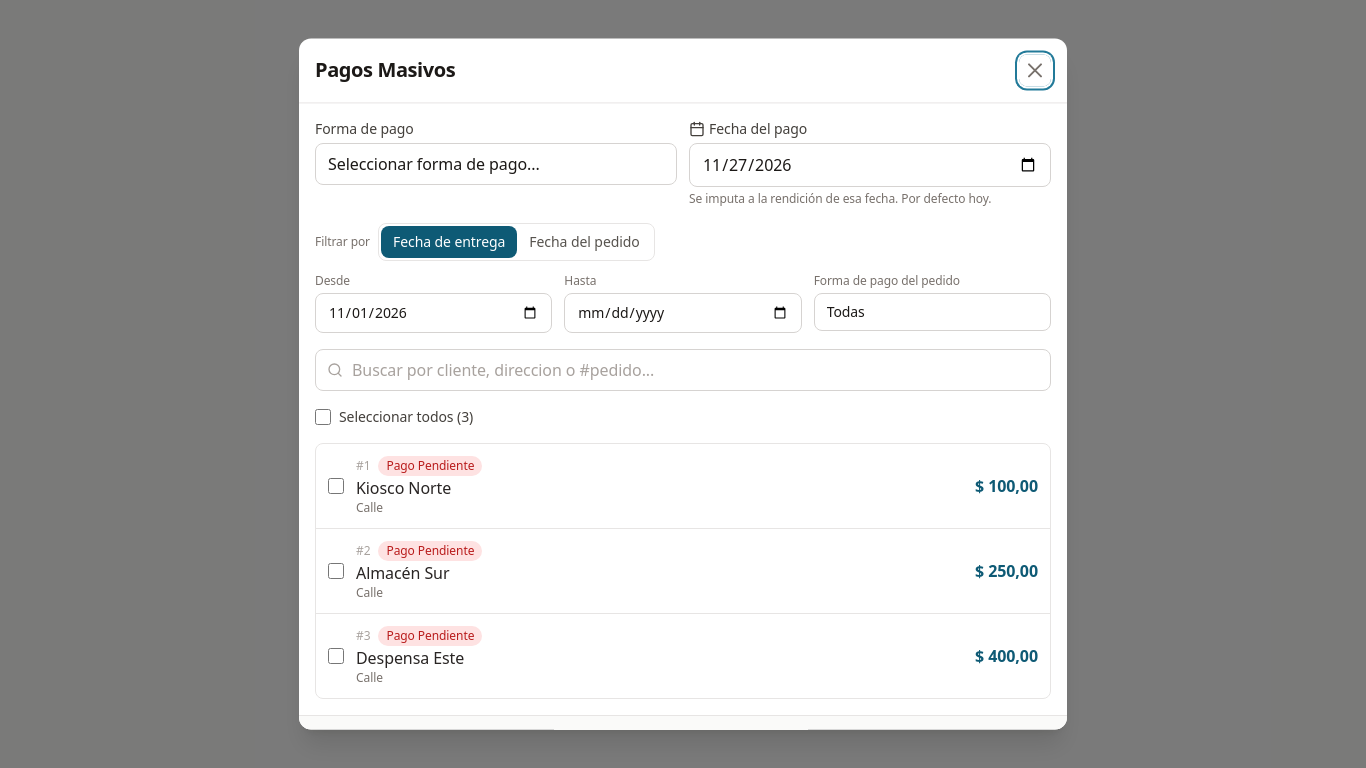
Scenario: ModalPagosMasivos · filtros de fecha y forma de pago (#1698) › filtra por fecha de entrega por defecto
Select "Efectivo" in the 1st dropdown at (496, 164), box [315,143,677,185]
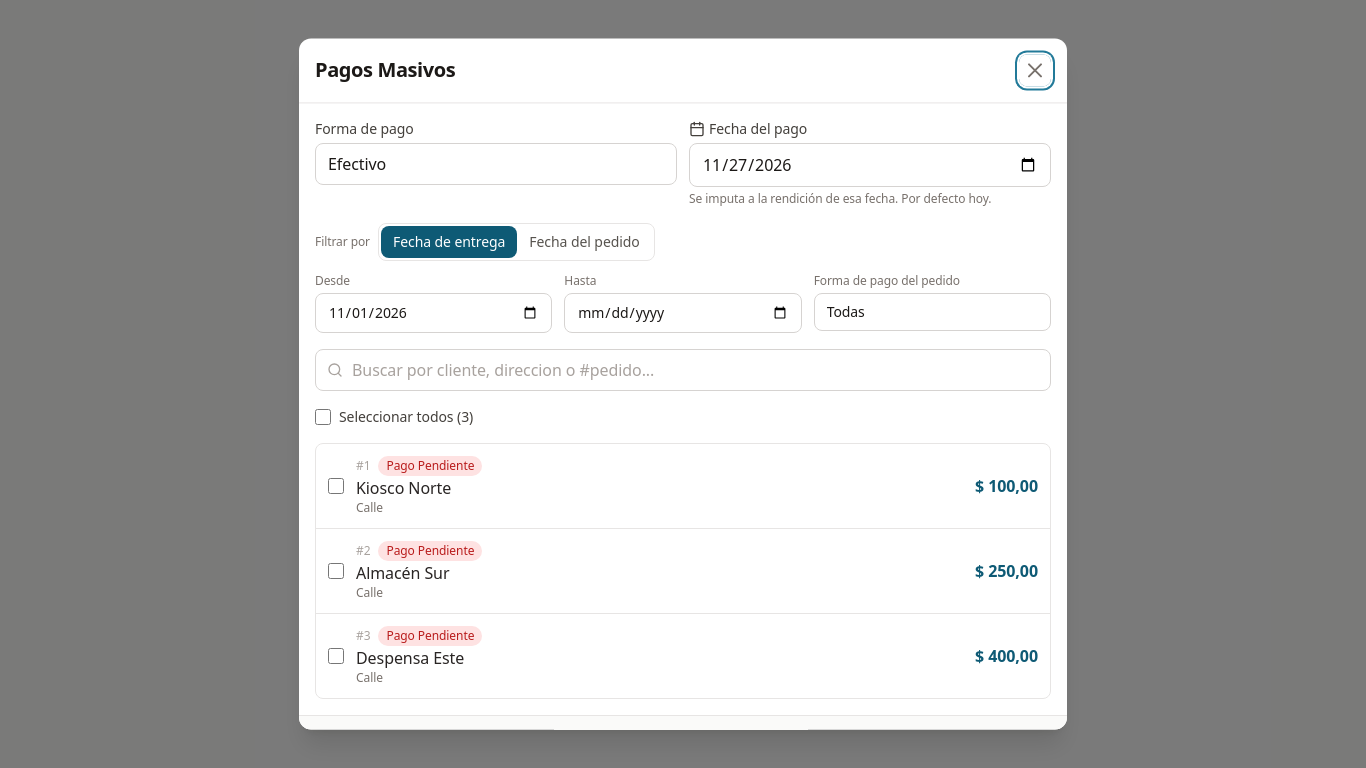
Type "2026-11-10" into the date field labelled "Desde".
click(434, 313); type("2026-11-10")  # box [315,293,552,333]
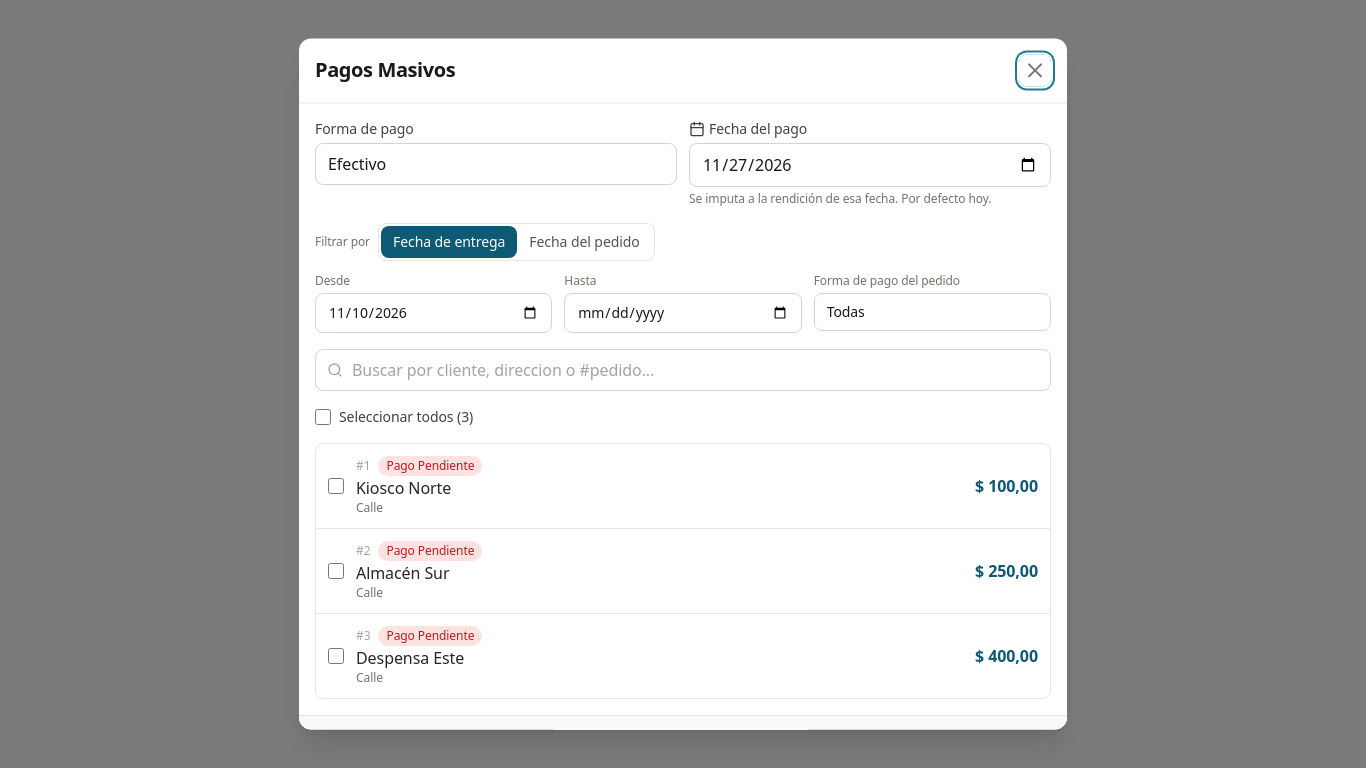
Type "2026-11-10" into the date field labelled "Hasta".
click(683, 313); type("2026-11-10")  # box [564,293,802,333]
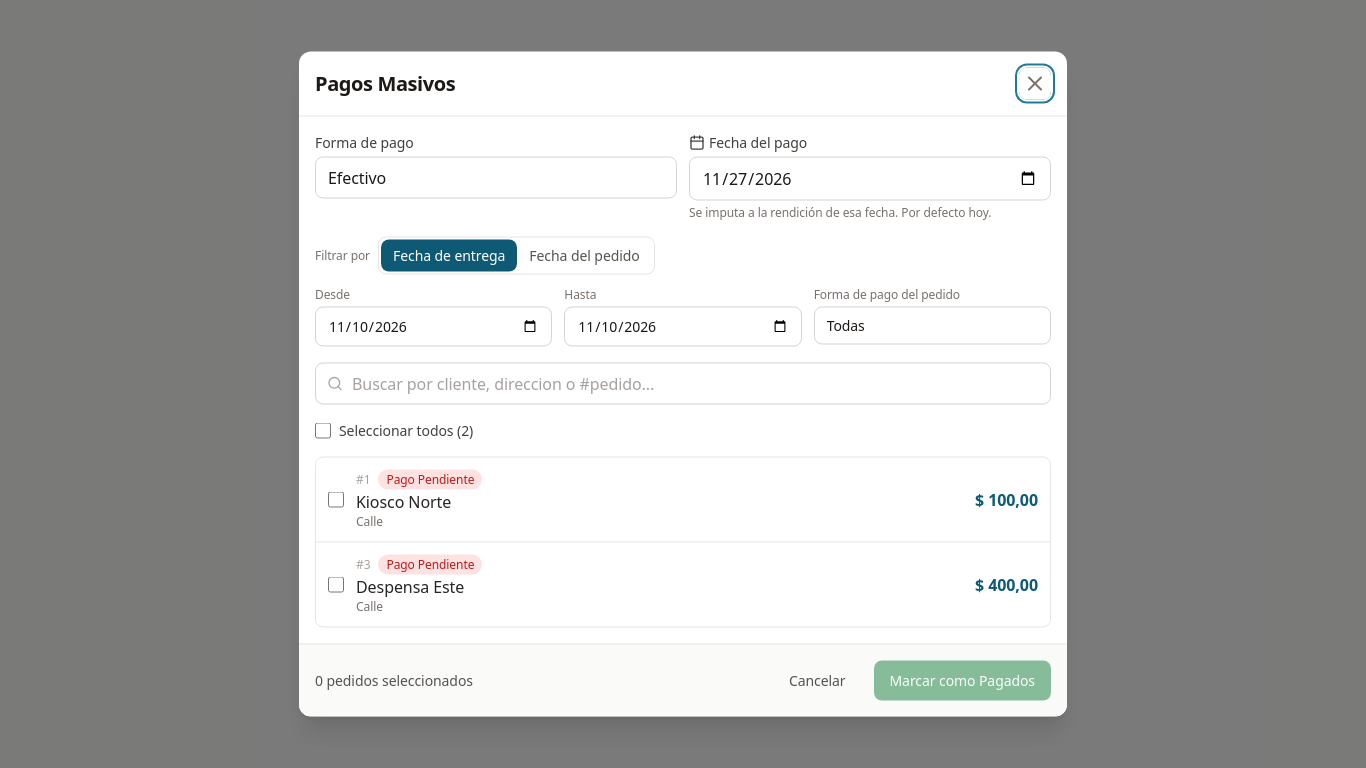
Expected: the text "Kiosco Norte" is shown, [356,490,451,512]
Expected: the text "Almacén Sur" is gone
